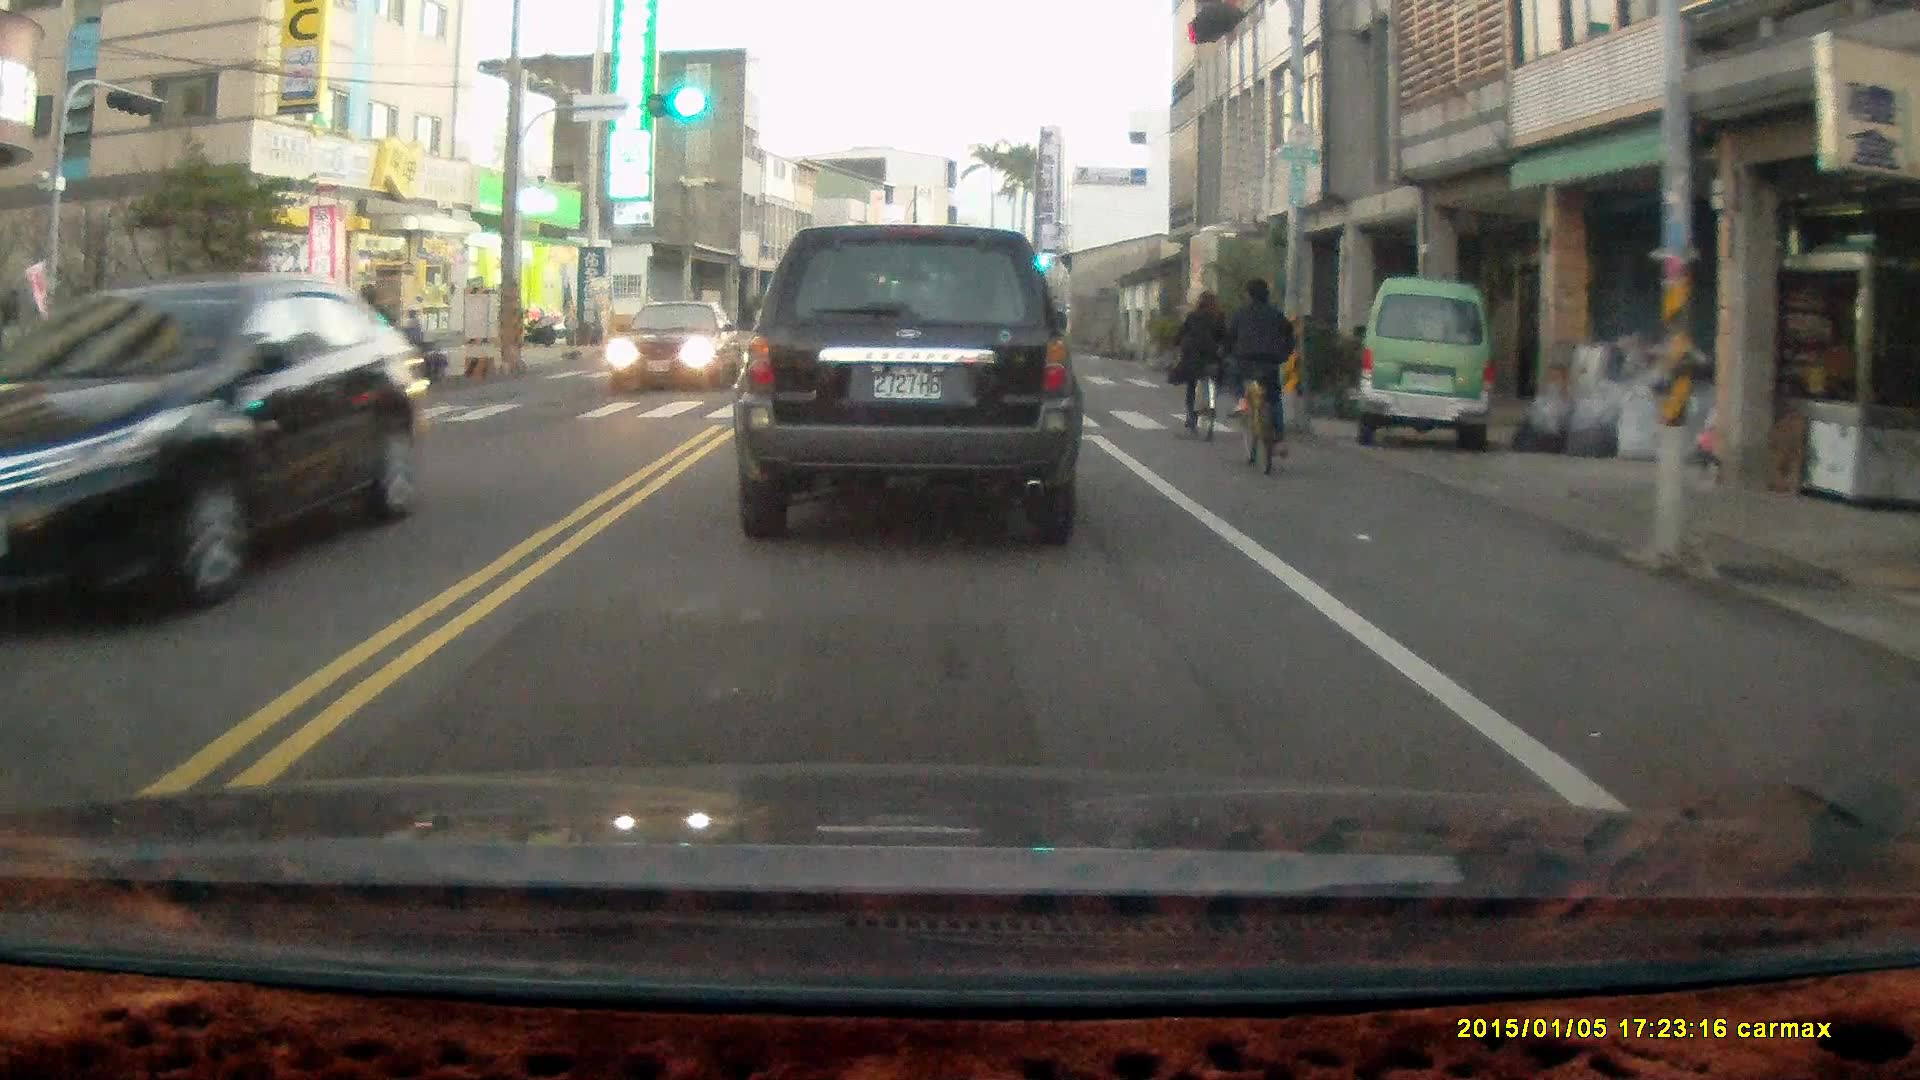rider: (1216, 274, 1295, 478), (1170, 288, 1229, 446), (371, 308, 446, 391)
vehicle: (1, 276, 445, 622), (746, 223, 1087, 537), (1359, 285, 1509, 459), (605, 303, 747, 400)
